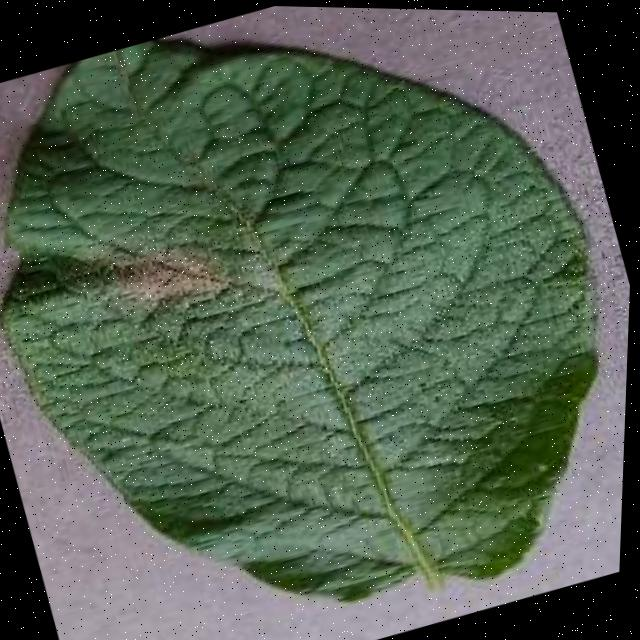Late_blight: (51, 193, 269, 346)
